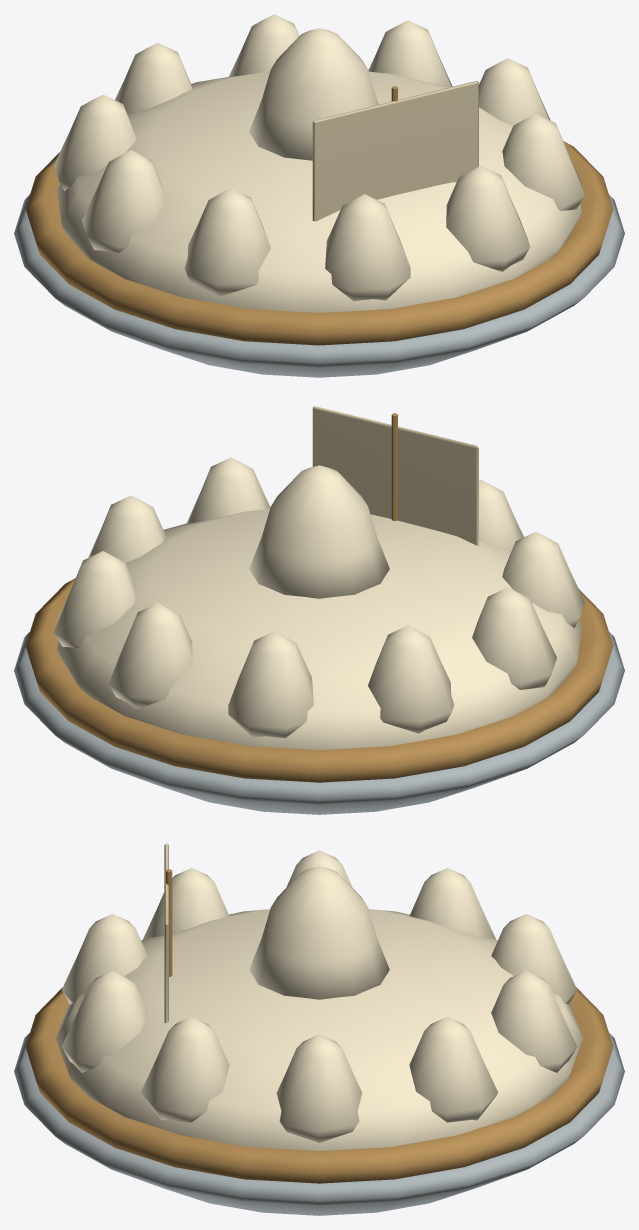
The model's file is P042_cream_pie_rebuilt.glb.
3 renders of one model, top to bottom at view 1: azimuth 30°, elevation 25°; view 2: azimuth 150°, elevation 25°; view 3: azimuth 270°, elevation 25°, orthographic.
Parts seen in each view (by area): view 1: cream, edge, steel, paper; view 2: cream, edge, steel, paper; view 3: cream, edge, steel, paper.
Boxes of the visible parts, box(x1,y1,x2,y2) form: cream: box(54, 14, 584, 312); edge: box(25, 86, 613, 345); steel: box(14, 194, 624, 377); paper: box(312, 81, 478, 221); cream: box(54, 457, 584, 749); edge: box(25, 413, 613, 782); steel: box(14, 632, 624, 814); paper: box(312, 406, 478, 545); cream: box(55, 850, 583, 1150); edge: box(25, 869, 613, 1183); steel: box(14, 1033, 624, 1215); paper: box(164, 843, 168, 1023).
Bounding box in the file's own units: 0.26 × 0.1205 × 0.26.
